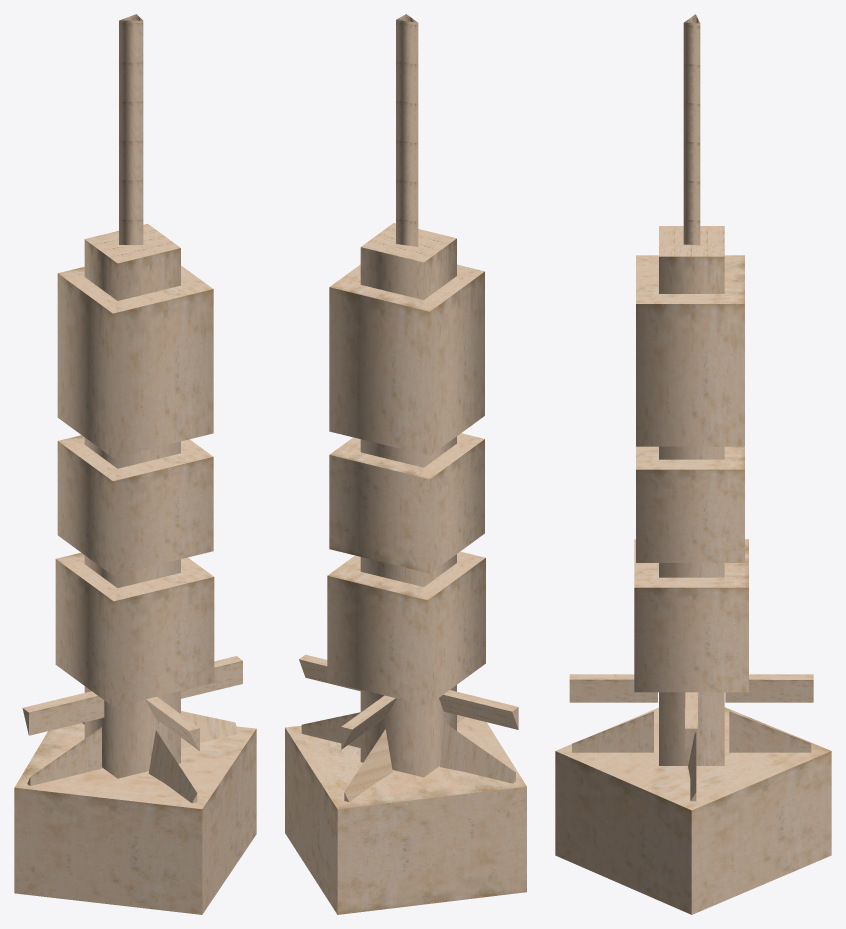
Rendered from ins_all_min_moisture_s01_u0_l3.fbx.
The picture shows the model from 3 angles, left to right: view 1: azimuth 30°, elevation 25°; view 2: azimuth 150°, elevation 25°; view 3: azimuth 270°, elevation 25°; orthographic projection.
Visible parts, largest first — view 1: mesh_node; view 2: mesh_node; view 3: mesh_node.
Part boxes in pixels (left/top/right/bottom): mesh_node: left=14, top=14, right=256, bottom=914; mesh_node: left=285, top=14, right=526, bottom=914; mesh_node: left=555, top=14, right=831, bottom=914.
Bounding box in the file's own units: 1.76 × 5.86 × 1.76.
